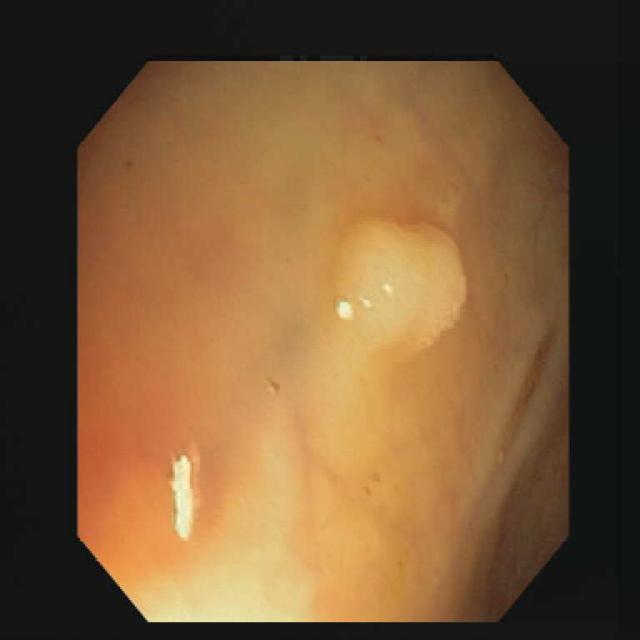tumor: (335, 224, 465, 347)
